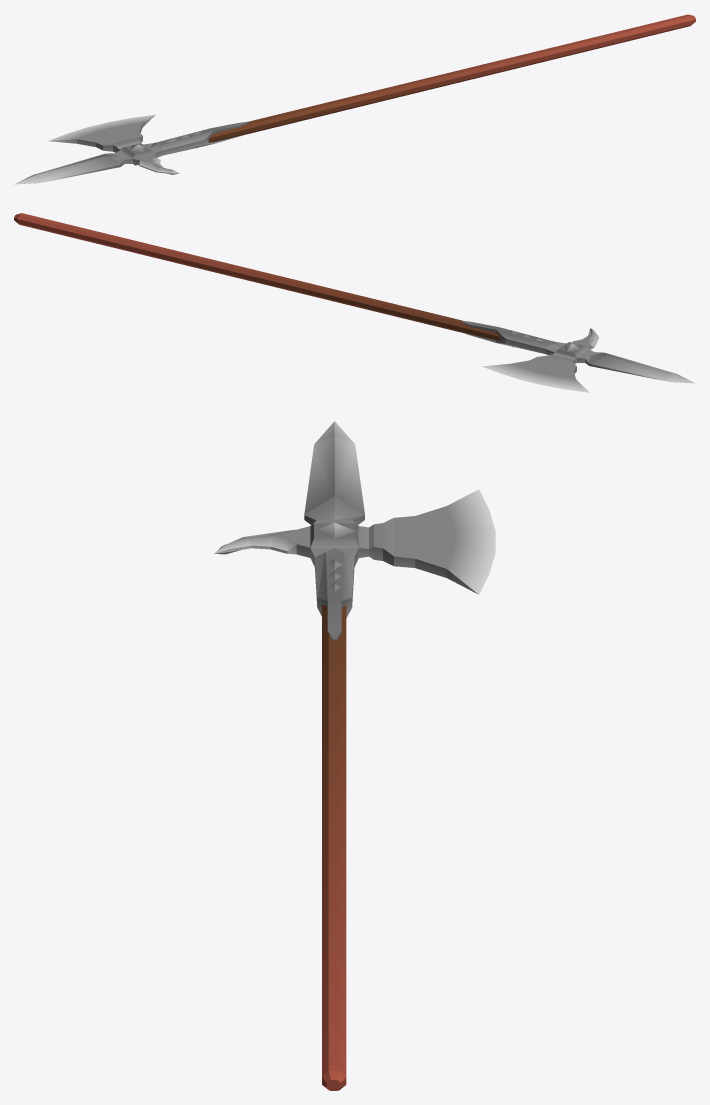
Rendered from hellebard.glb.
3 renders of one model, top to bottom at view 1: azimuth 30°, elevation 25°; view 2: azimuth 150°, elevation 25°; view 3: azimuth 270°, elevation 25°, orthographic. The views are drawn at different scales.
Visible parts, largest first — view 1: Hellebard_mesh1; view 2: Hellebard_mesh1; view 3: Hellebard_mesh1.
Boxes of the visible parts, x1,y1,x2,y2 form: Hellebard_mesh1: (14,14,695,184); Hellebard_mesh1: (14,213,694,392); Hellebard_mesh1: (214,421,495,1090).
Bounding box in the file's own units: 2.28 × 0.062 × 0.4077.
Materials: 1 (1 with a texture image).
